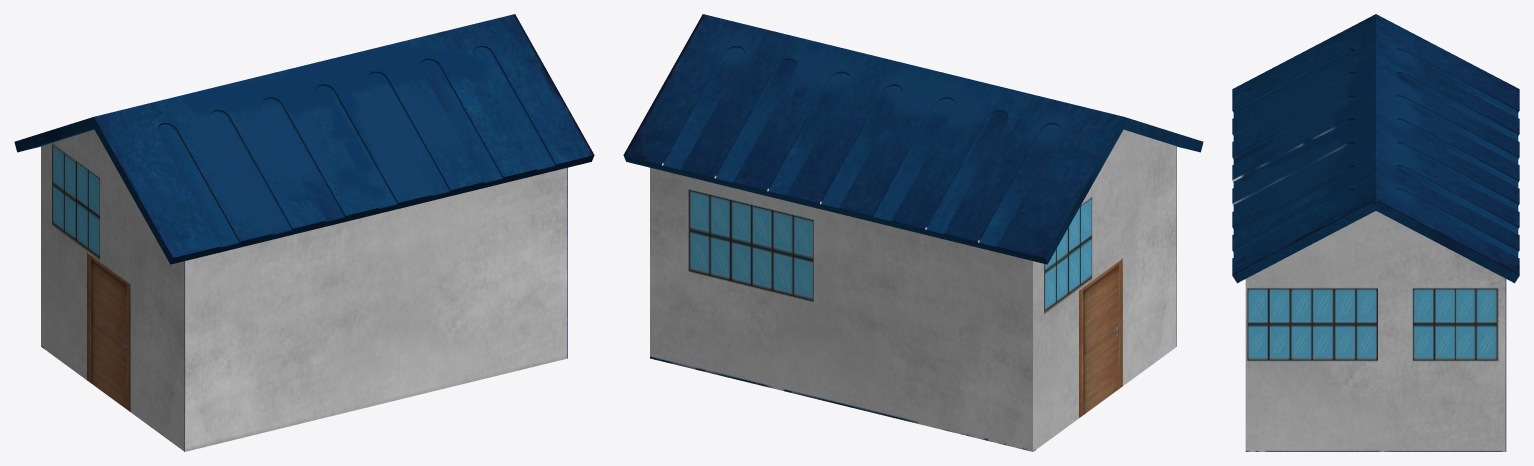
File: farmhouse.dae
3 views of the same model, side by side, from view 1: azimuth 30°, elevation 25°; view 2: azimuth 150°, elevation 25°; view 3: azimuth 270°, elevation 25° (orthographic). The views are drawn at different scales.
Visible parts, largest first — view 1: Part1; view 2: Part1; view 3: Part1.
Boxes of the visible parts, box(x1,y1,x2,y2) form: Part1: box(14, 14, 594, 451); Part1: box(623, 14, 1203, 451); Part1: box(1232, 14, 1519, 451).
Bounding box in the file's own units: 2.2 × 1.44 × 1.43.
1 material, 1 textured.
